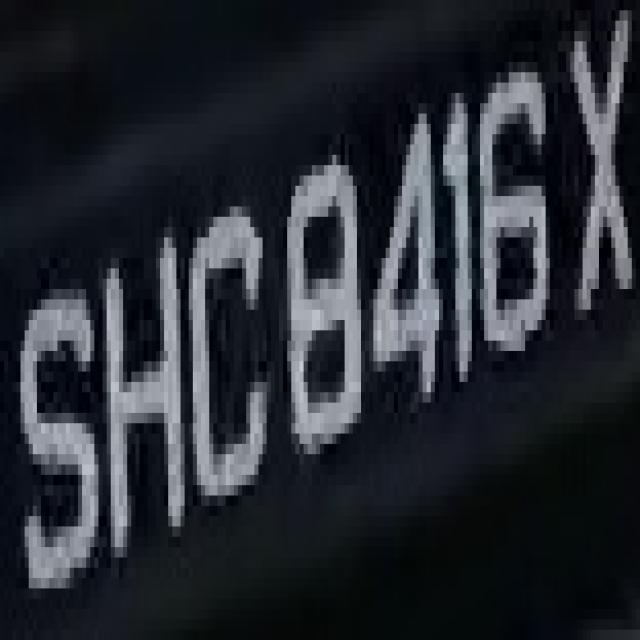1: (435, 82, 488, 413)
4: (353, 62, 443, 433)
6: (476, 62, 541, 392)
8: (275, 124, 365, 506)
C: (164, 175, 271, 537)
H: (99, 206, 184, 588)
S: (4, 258, 99, 599)
X: (554, 0, 640, 341)
